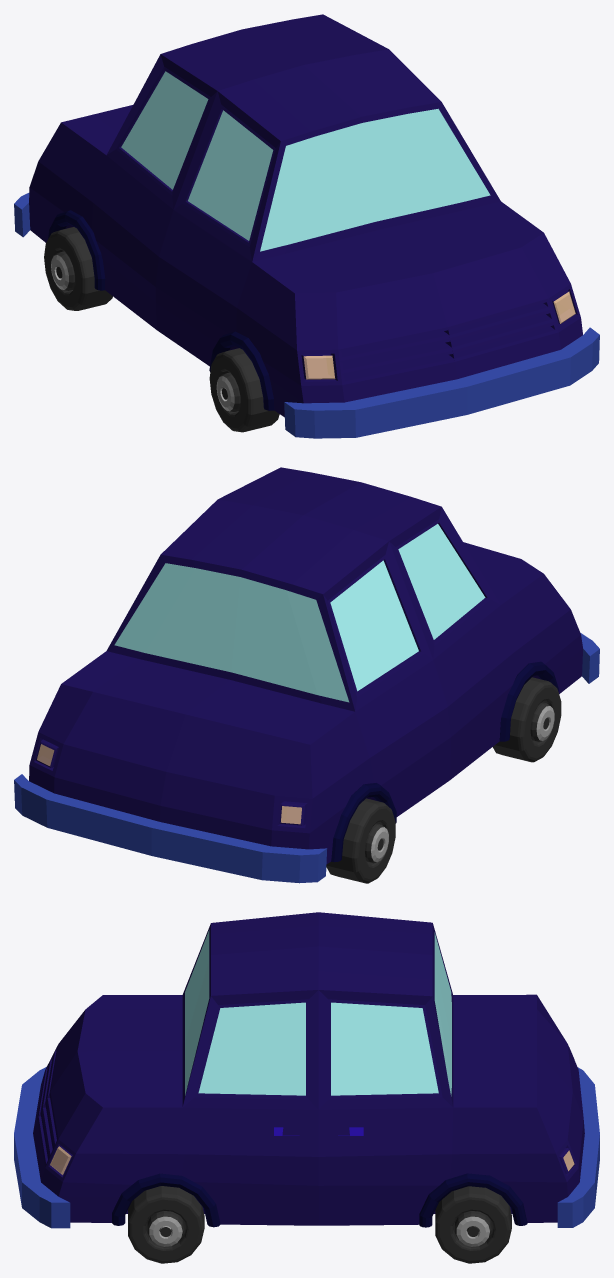
File: Car_yeji.fbx
The picture shows the model from 3 angles, top to bottom: view 1: azimuth 30°, elevation 25°; view 2: azimuth 150°, elevation 25°; view 3: azimuth 270°, elevation 25°; orthographic projection. The views are drawn at different scales.
Parts seen in each view (by area): view 1: Cube; view 2: Cube; view 3: Cube.
Boxes of the visible parts, x1,y1,x2,y2 form: Cube: (14,14,599,438); Cube: (14,467,599,883); Cube: (14,912,599,1263).
Bounding box in the file's own units: 2.59 × 2.05 × 4.39.
